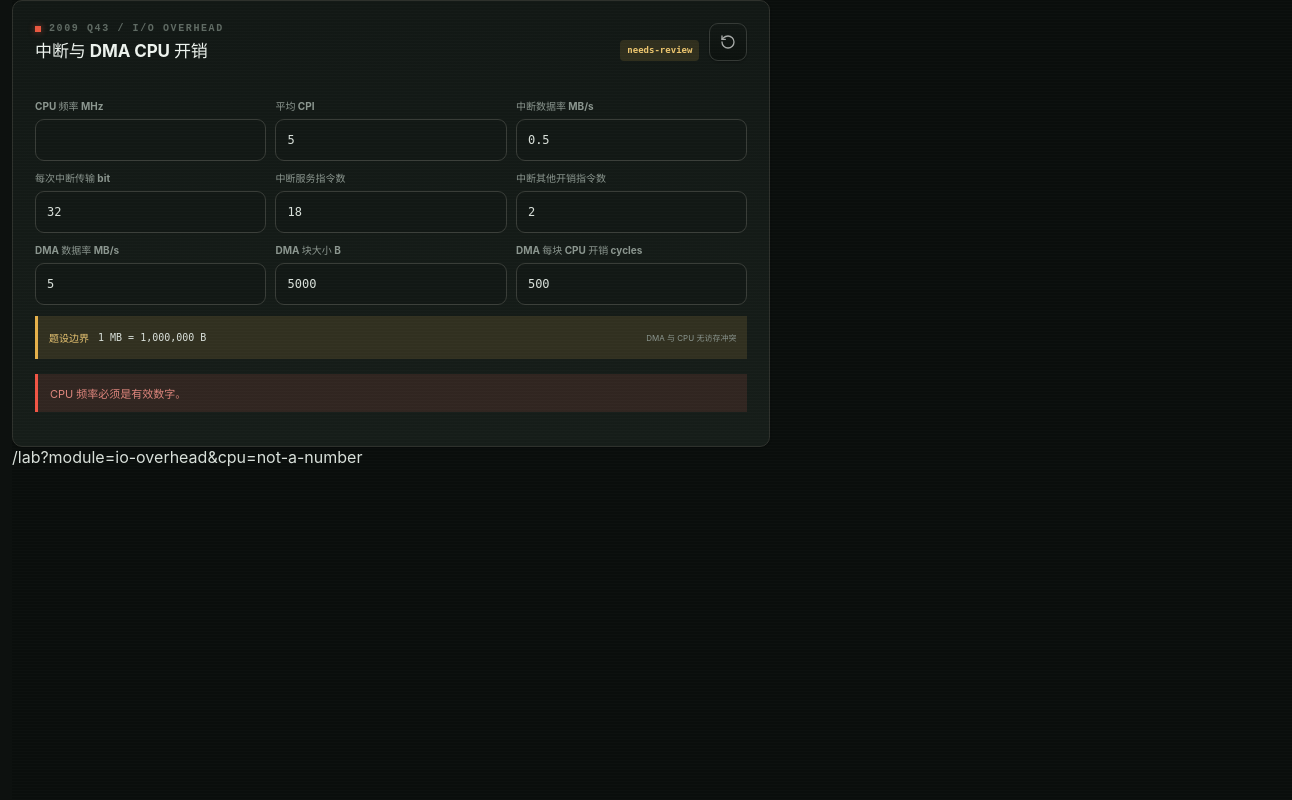
Test case: IoOverheadLabPanel › fails closed for invalid URL input and restores the canonical Q43 preset
expect the message shows "CPU 频率": met, box [50,387,186,401]
expect the field labelled "中断方式 CPU 占用" is not shown: met
Click the button named "恢复 Q43 预设" at [728, 42], box [709,23,747,61]
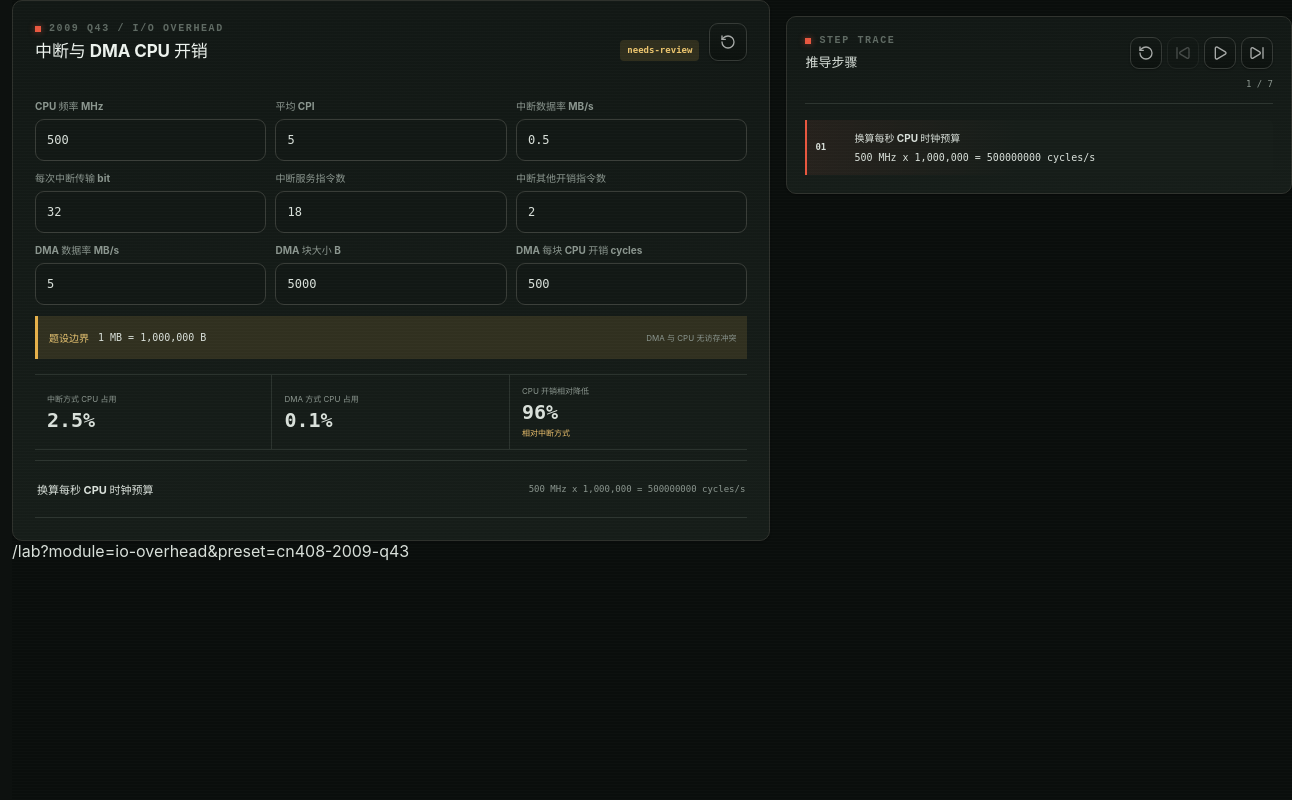
expect the message is gone: met
expect the number field labelled "CPU 频率 MHz" holds "500": met, box [35,119,266,161]
expect the text named "current URL" reads "/lab?module=io-overhead&preset=cn408-2009-q43": met, box [12,541,409,561]
